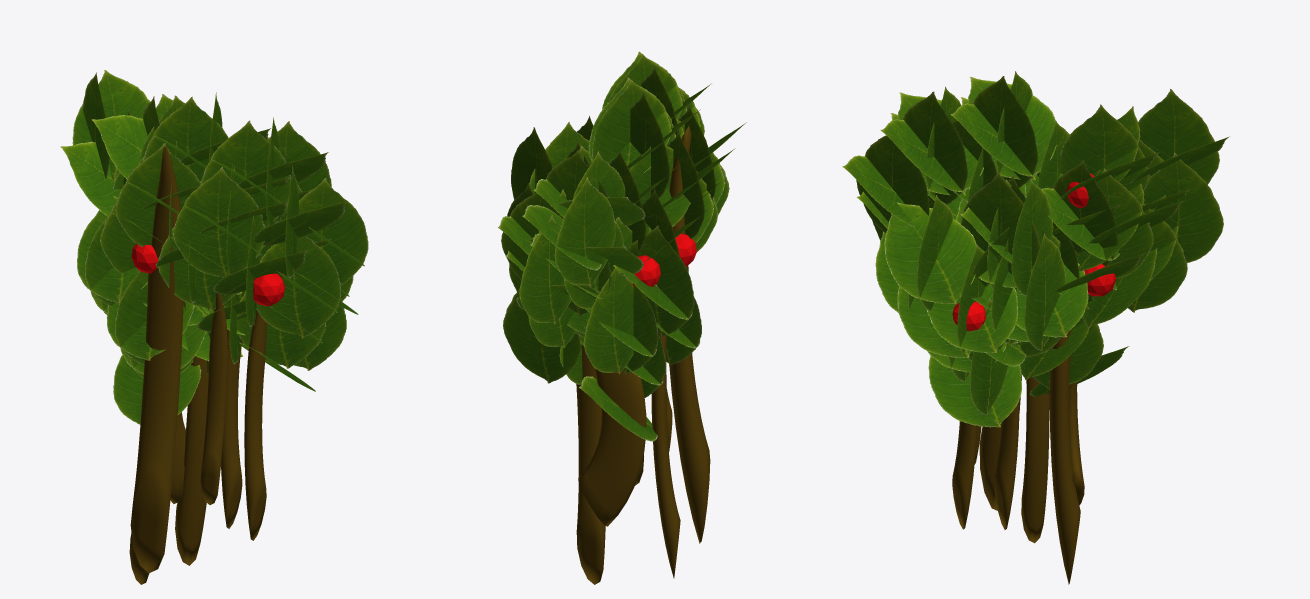
The model's file is Misseltoe2.fbx.
3 views of the same model, side by side, from view 1: azimuth 30°, elevation 25°; view 2: azimuth 150°, elevation 25°; view 3: azimuth 270°, elevation 25° (orthographic). The views are drawn at different scales.
Visible parts, largest first — view 1: Torus.007, Plane.034, Plane.042, Torus, Torus.003, Torus.004, Plane.080, Plane.040, Plane.032, Plane.078, Torus.006, Plane.071 (+25 smaller); view 2: Torus.002, Torus.007, Plane.074, Torus, Plane.077, Plane.008, Plane.075, Plane.064, Torus.005, Plane.092, Plane.078, Plane.109 (+31 smaller); view 3: Plane.041, Plane.075, Torus, Plane.074, Plane.016, Torus.005, Plane.069, Plane.048, Plane.092, Plane.110, Plane.111, Plane.050 (+36 smaller).
Part boxes in pixels (box(x1,y1,x2,y2)): Torus.007: box(130, 146, 183, 573); Plane.034: box(172, 167, 264, 277); Plane.042: box(256, 236, 340, 338); Torus: box(175, 356, 208, 565); Torus.003: box(244, 310, 267, 540); Torus.004: box(200, 293, 227, 504); Plane.080: box(115, 143, 200, 246); Plane.040: box(286, 178, 368, 285); Plane.032: box(200, 120, 291, 227); Plane.078: box(143, 96, 228, 181); Torus.006: box(221, 329, 242, 528); Plane.071: box(72, 70, 150, 180); Torus.002: box(578, 368, 646, 526); Torus.007: box(669, 125, 710, 543); Plane.074: box(554, 177, 615, 285); Torus: box(576, 344, 605, 584); Plane.077: box(583, 267, 633, 374); Plane.008: box(629, 225, 694, 336); Plane.075: box(519, 215, 571, 324); Plane.064: box(503, 289, 580, 383); Torus.005: box(651, 333, 680, 578); Plane.092: box(592, 79, 675, 161); Plane.078: box(630, 92, 669, 197); Plane.109: box(511, 127, 552, 199); Plane.041: box(884, 202, 976, 303); Plane.075: box(1143, 152, 1223, 262); Torus: box(1049, 250, 1080, 584); Plane.074: box(1138, 89, 1219, 184); Plane.016: box(1060, 104, 1149, 190); Torus.005: box(1021, 377, 1049, 543); Plane.069: box(928, 356, 1021, 427); Plane.048: box(903, 91, 967, 204); Plane.092: box(973, 76, 1037, 187); Plane.110: box(1024, 233, 1065, 350); Plane.111: box(961, 171, 1040, 274); Plane.050: box(856, 135, 929, 233).
Bounding box in the file's own units: 8.72 × 15.1 × 12.78.
